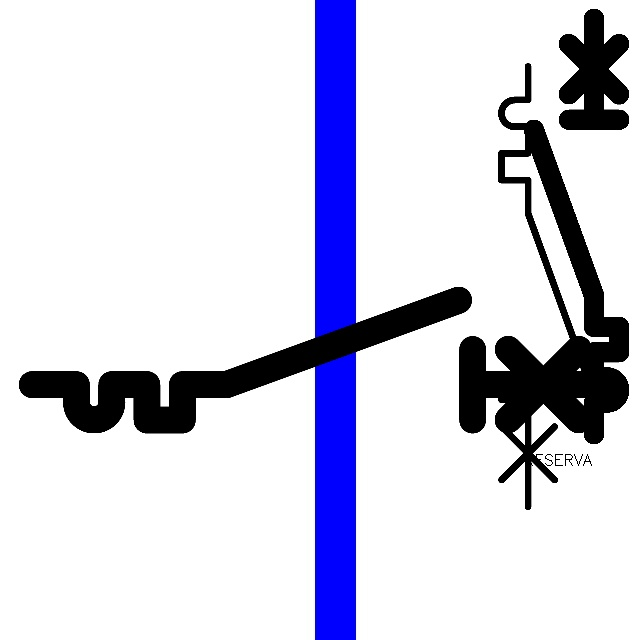interruptor_termomagnetico: (17, 285, 629, 435), (490, 55, 603, 518), (523, 8, 630, 445)
